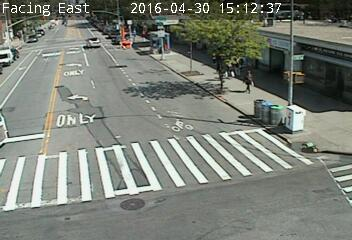neg: (298, 133, 316, 156), (270, 111, 287, 134), (125, 75, 142, 98), (226, 59, 241, 79), (158, 100, 173, 120), (87, 30, 102, 49), (224, 108, 238, 127), (10, 117, 24, 136), (243, 109, 257, 127), (213, 58, 226, 76), (6, 41, 19, 58), (121, 19, 132, 34), (179, 81, 189, 95), (59, 13, 69, 27)
pos: (239, 69, 258, 95)
